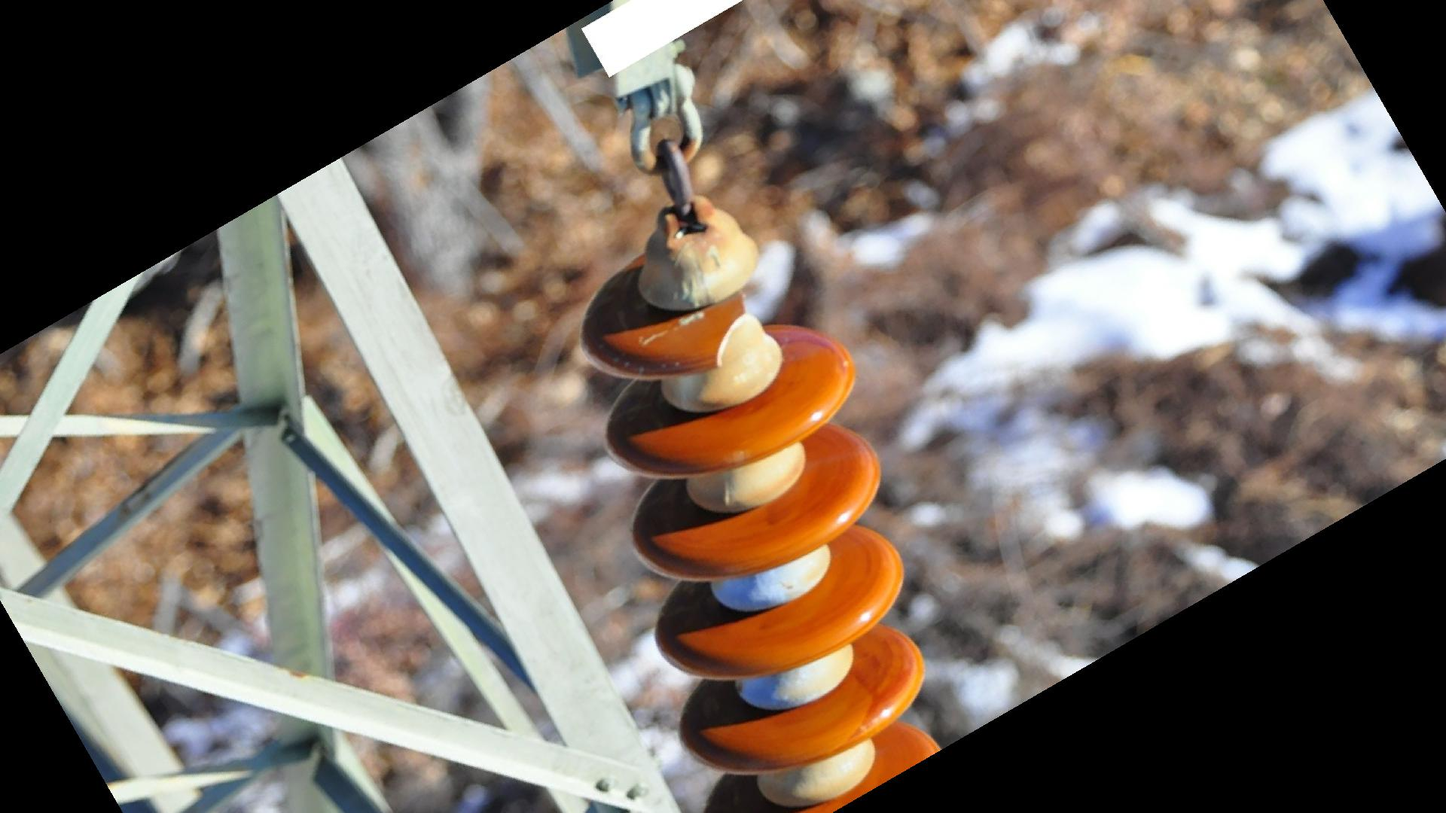insulator: (573, 255, 948, 813)
insulator_breakage: (702, 285, 753, 373)
